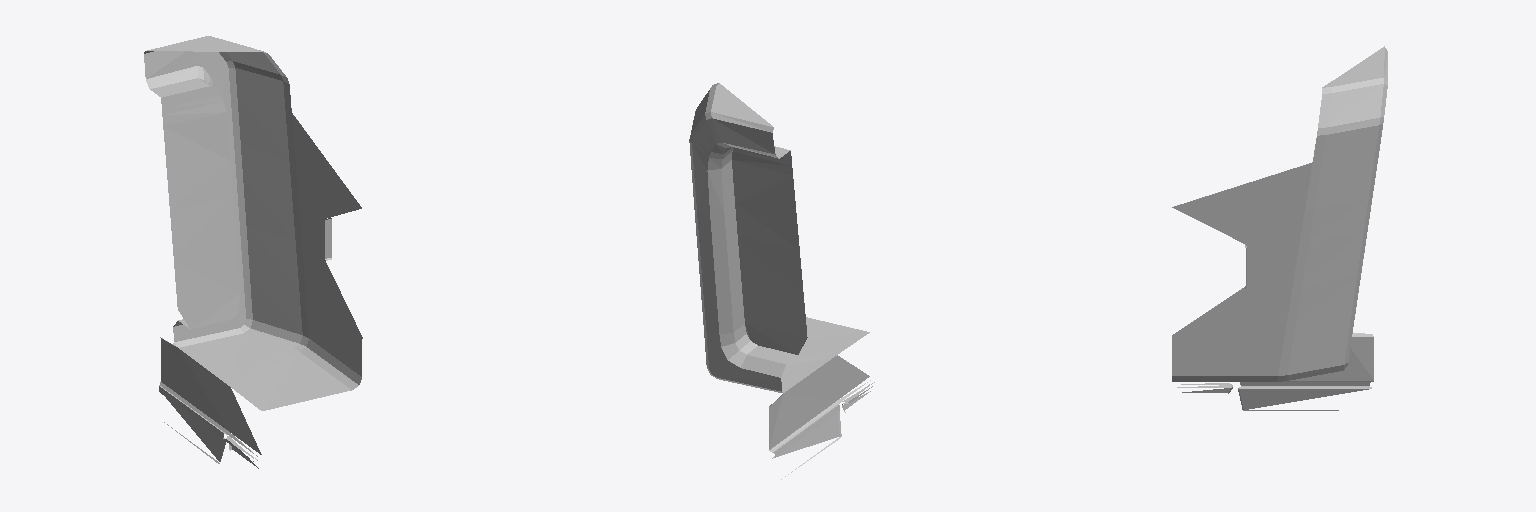
The model's file is shard17.obj.
3 renders of one model, left to right at view 1: azimuth 30°, elevation 25°; view 2: azimuth 150°, elevation 25°; view 3: azimuth 270°, elevation 25°, orthographic.
Visible parts, largest first — view 1: defaultMaterial.015; view 2: defaultMaterial.015; view 3: defaultMaterial.015.
Part boxes in pixels (x1,y1,x2,y2): defaultMaterial.015: (144, 36, 362, 468); defaultMaterial.015: (689, 83, 874, 479); defaultMaterial.015: (1172, 46, 1387, 410).
Size of the model in its own units: 2.29 by 6.75 by 3.65.